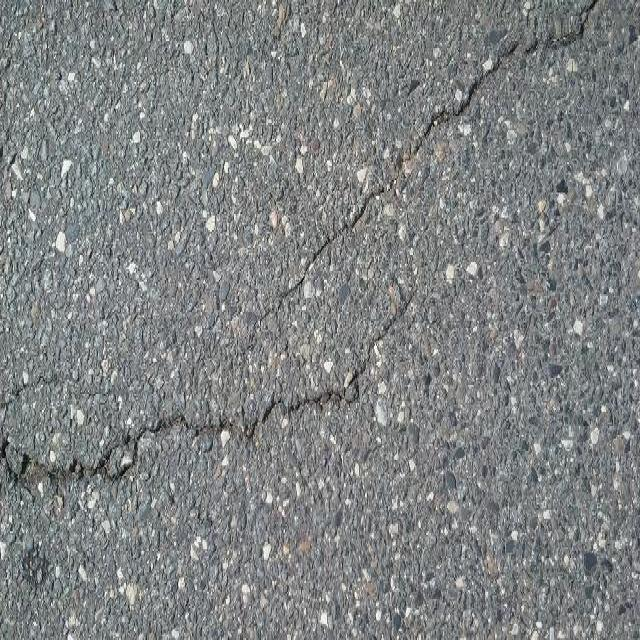GRIETA: (258, 40, 550, 321), (7, 298, 410, 487), (0, 376, 55, 457), (553, 0, 598, 47), (231, 417, 265, 437)
